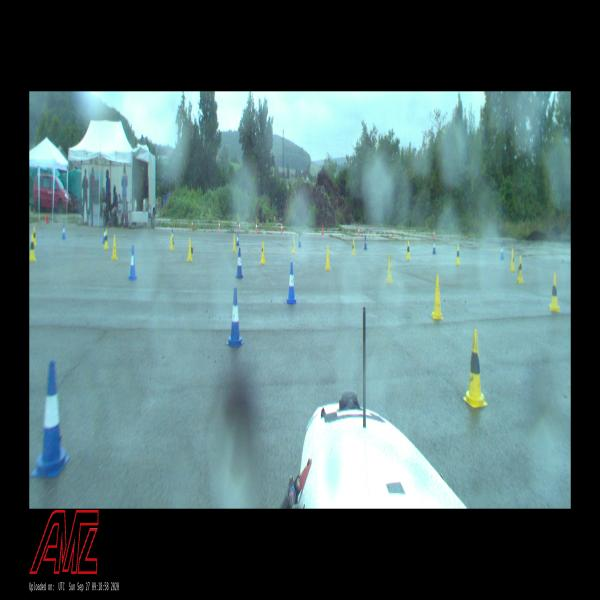blue_cone: (33, 362, 70, 477), (226, 289, 244, 349), (286, 262, 297, 303), (129, 246, 136, 280), (236, 248, 243, 278), (500, 242, 504, 260), (432, 238, 436, 254), (102, 227, 106, 243), (171, 228, 174, 245), (62, 224, 65, 239), (364, 236, 367, 249), (236, 232, 239, 245), (298, 234, 301, 247)
orange_cone: (358, 226, 360, 236), (191, 219, 193, 229), (392, 227, 394, 237), (322, 226, 324, 235), (433, 229, 435, 238), (281, 224, 283, 232), (219, 220, 220, 230), (256, 222, 257, 231), (239, 222, 240, 230)
yellow_cone: (462, 330, 488, 408), (431, 275, 443, 319), (550, 274, 560, 311), (386, 253, 393, 283), (517, 256, 523, 283), (325, 246, 331, 269), (260, 242, 266, 263), (112, 236, 117, 260), (510, 249, 515, 271), (30, 234, 34, 260), (188, 239, 192, 261), (169, 233, 174, 250), (456, 245, 460, 264), (406, 241, 410, 259), (104, 230, 108, 248), (33, 228, 36, 245), (352, 239, 355, 255), (292, 237, 295, 252), (233, 236, 236, 251)
